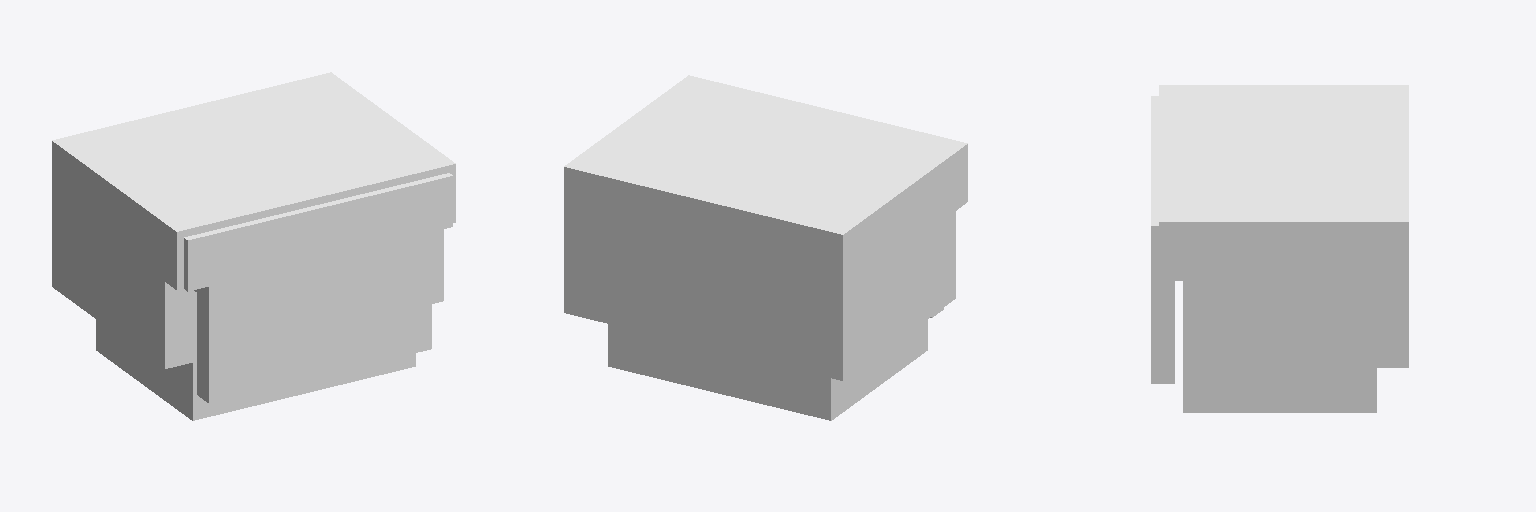
Rendered from TEnemy-3.obj.
The picture shows the model from 3 angles: view 1: azimuth 30°, elevation 25°; view 2: azimuth 150°, elevation 25°; view 3: azimuth 270°, elevation 25°; orthographic projection.
Parts seen in each view (by area): view 1: object 1; view 2: object 1; view 3: object 1.
Part boxes in pixels (x1,y1,x2,y2): object 1: (52,72,455,420); object 1: (564,75,967,420); object 1: (1151,85,1408,412).
Size of the model in its own units: 4 by 2.8 by 3.2.